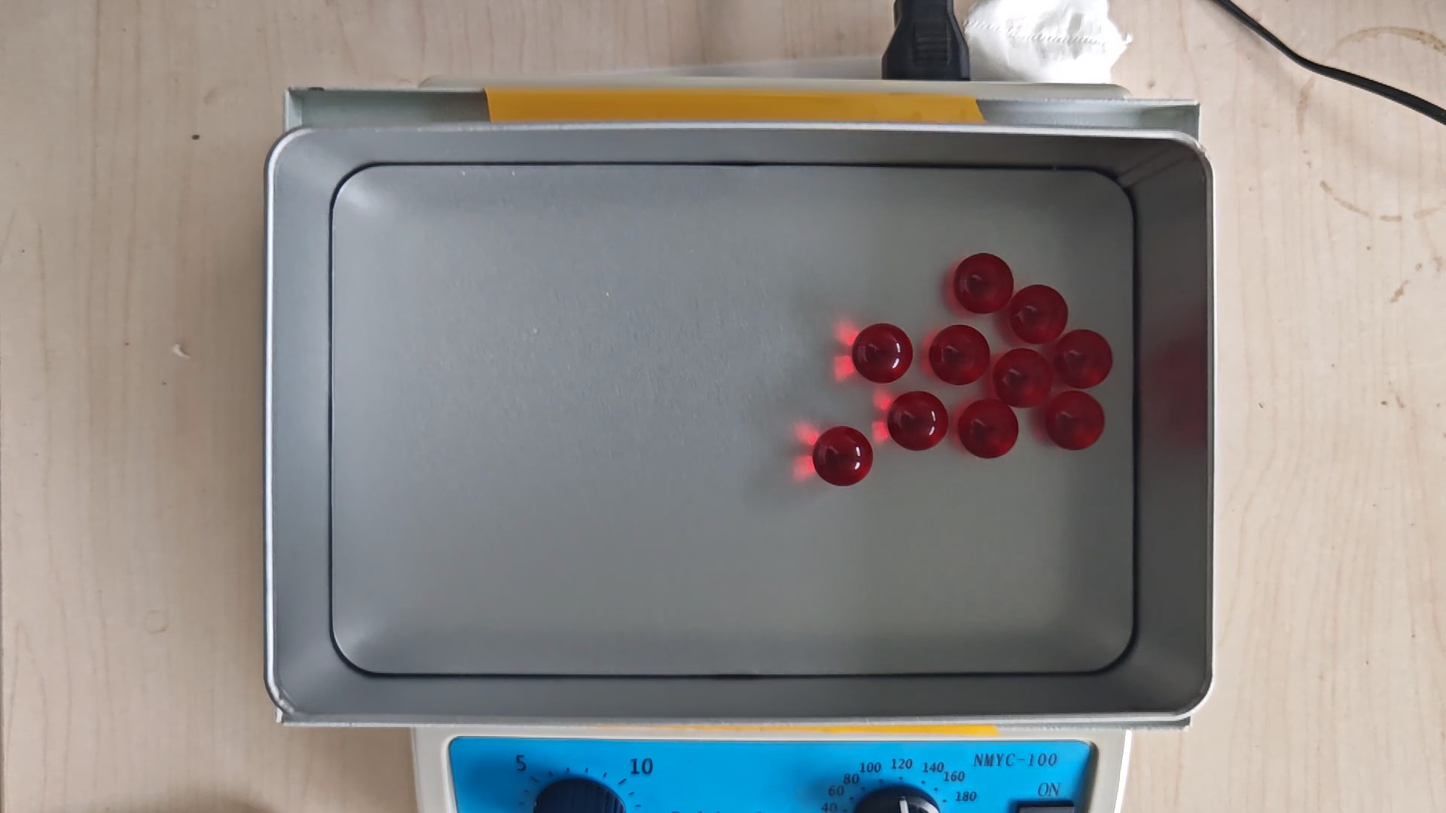ball: (928, 325, 992, 386), (887, 390, 948, 452), (813, 425, 873, 488), (1046, 390, 1107, 451), (853, 322, 913, 384), (959, 398, 1019, 460), (954, 253, 1014, 315), (1010, 284, 1068, 345), (995, 349, 1056, 407), (1055, 329, 1113, 389)
container: (330, 164, 1136, 676)
